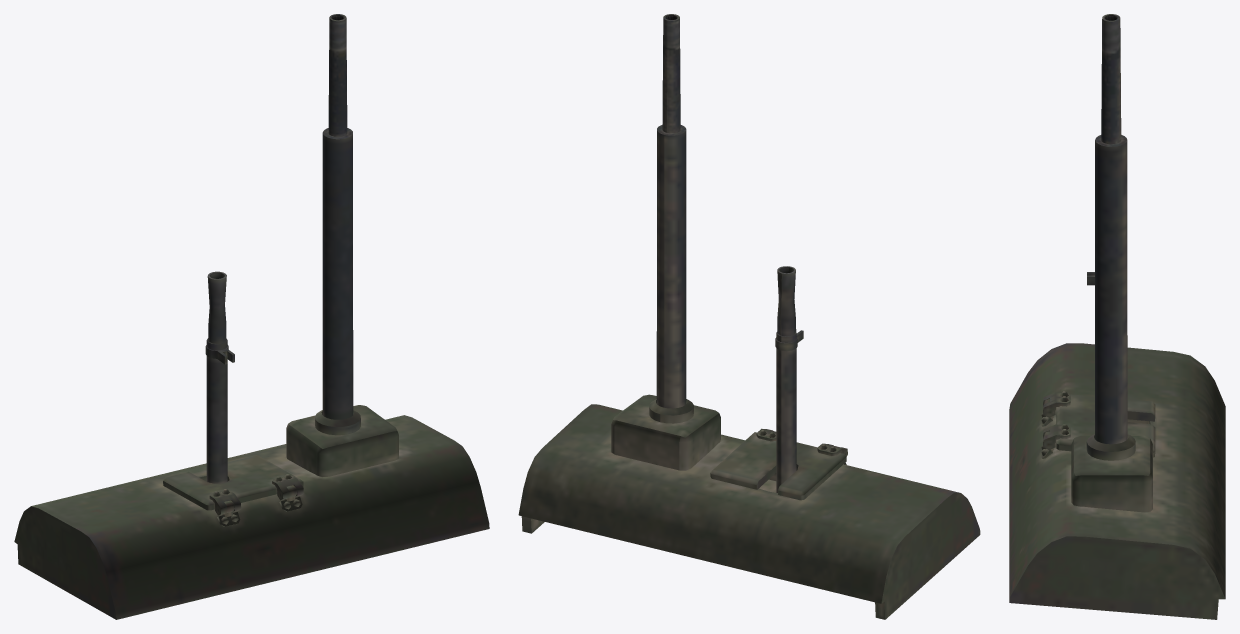
Rendered from Gun_01.glb.
The picture shows the model from 3 angles, left to right: view 1: azimuth 30°, elevation 25°; view 2: azimuth 150°, elevation 25°; view 3: azimuth 270°, elevation 25°; orthographic projection. The views are drawn at different scales.
Visible parts, largest first — view 1: set_0_group_0; view 2: set_0_group_0; view 3: set_0_group_0.
Boxes of the visible parts, <box> form: set_0_group_0: <box>14,14,489,619</box>; set_0_group_0: <box>518,14,980,619</box>; set_0_group_0: <box>1009,14,1225,619</box>.
Size of the model in its own units: 0.7749 by 1.03 by 0.3667.
Materials: 1 (1 with a texture image).
